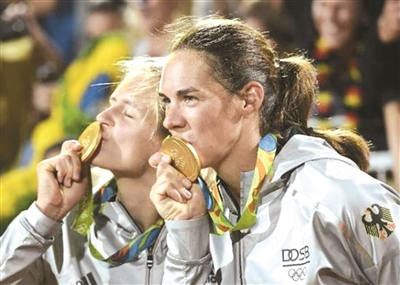face: (157, 55, 243, 167), (87, 78, 156, 169), (312, 1, 358, 40)
